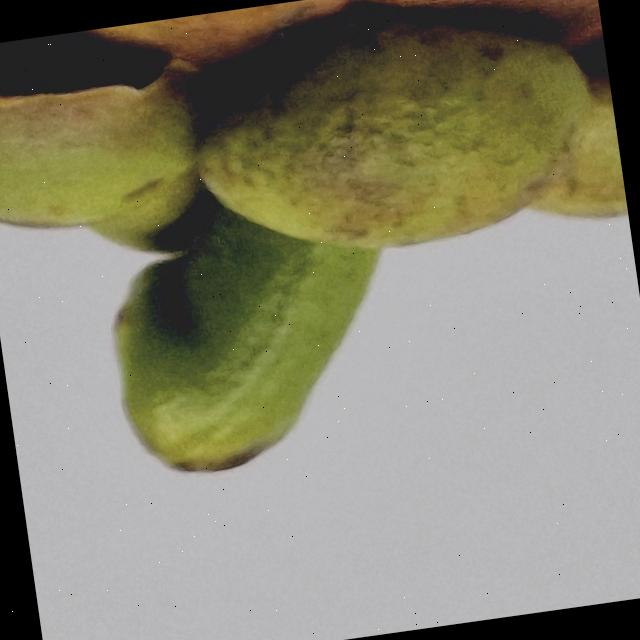mangosteen: (0, 0, 640, 503)
